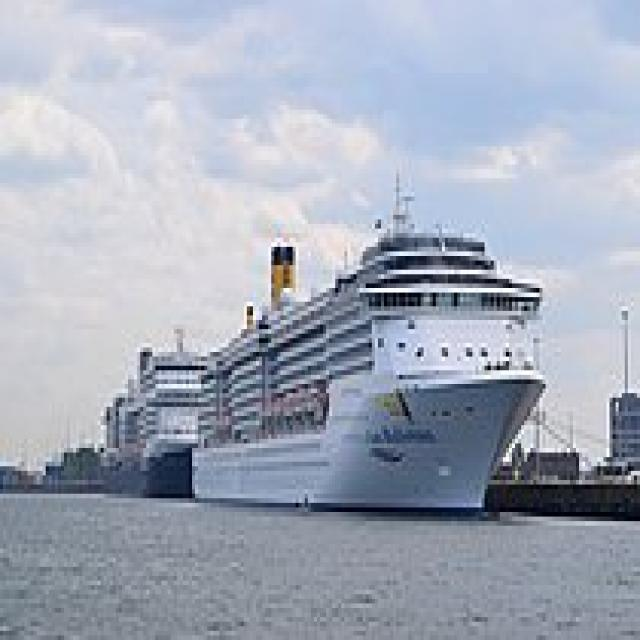Ship: (196, 170, 556, 527)
